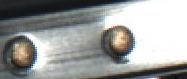joints: (0, 31, 40, 73), (99, 23, 137, 63)
